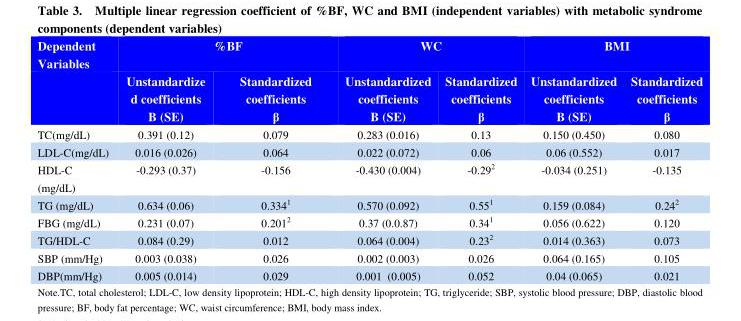table: (36, 36, 702, 282)
table column: (327, 36, 437, 282), (221, 36, 327, 282), (116, 36, 221, 282), (523, 36, 623, 282), (437, 36, 523, 282), (36, 36, 116, 282), (623, 36, 702, 282)
table column header: (36, 36, 702, 125)
table row: (36, 71, 702, 125), (36, 36, 702, 71), (36, 159, 702, 194), (36, 194, 702, 212), (36, 212, 702, 230), (36, 230, 702, 248), (36, 248, 702, 266), (36, 125, 702, 142), (36, 142, 702, 159), (36, 266, 702, 282)
table spanning cell: (116, 36, 327, 71), (36, 36, 116, 125), (327, 36, 523, 71), (523, 36, 702, 71)
